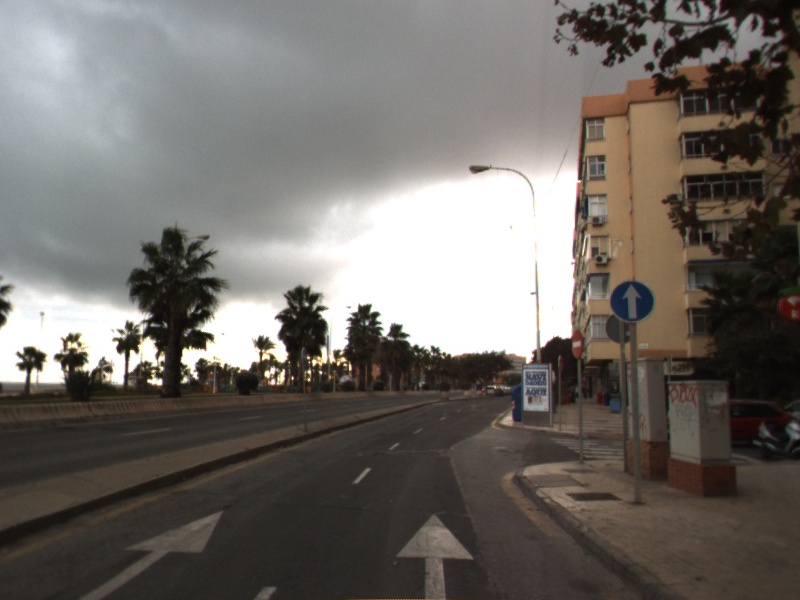STRAIGHT: (75, 509, 225, 600), (394, 511, 477, 600)
